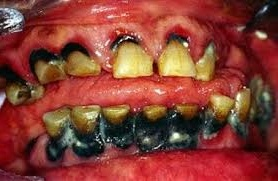Tooth Discoloration: (39, 81, 275, 166), (1, 27, 216, 102)
